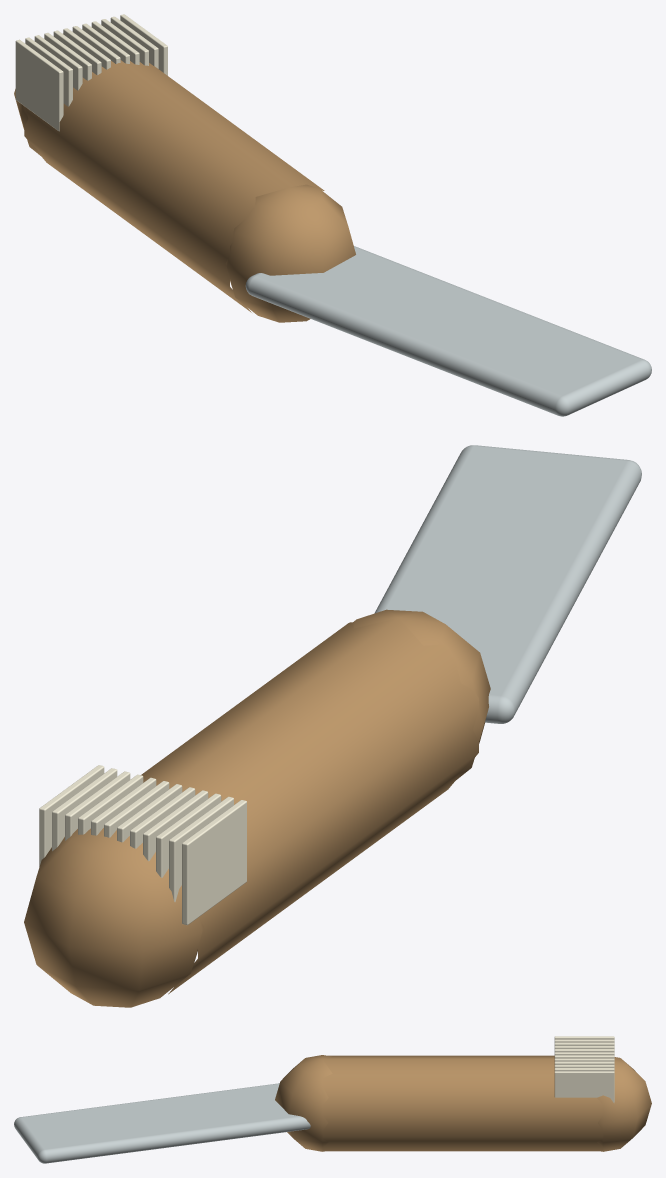
File: mushroom-farm-and-grow-rooms-mushroom-harvest-knife-0cfc1721__30842.glb
3 views of the same model, one above another, from view 1: azimuth 30°, elevation 25°; view 2: azimuth 150°, elevation 25°; view 3: azimuth 270°, elevation 25° (orthographic). The views are drawn at different scales.
Visible parts, largest first — view 1: mushroom-harvest-knife; view 2: mushroom-harvest-knife; view 3: mushroom-harvest-knife.
Boxes of the visible parts, bbox=[...] form: mushroom-harvest-knife: bbox=[14, 14, 651, 416]; mushroom-harvest-knife: bbox=[24, 445, 641, 1007]; mushroom-harvest-knife: bbox=[14, 1036, 651, 1163].
Size of the model in its own units: 0.0465 by 0.027 by 0.1704.
